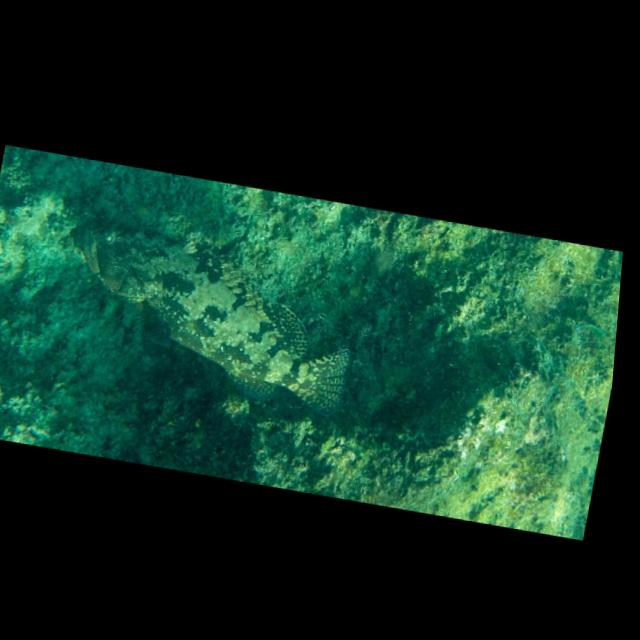Groupers: (43, 214, 374, 426)
